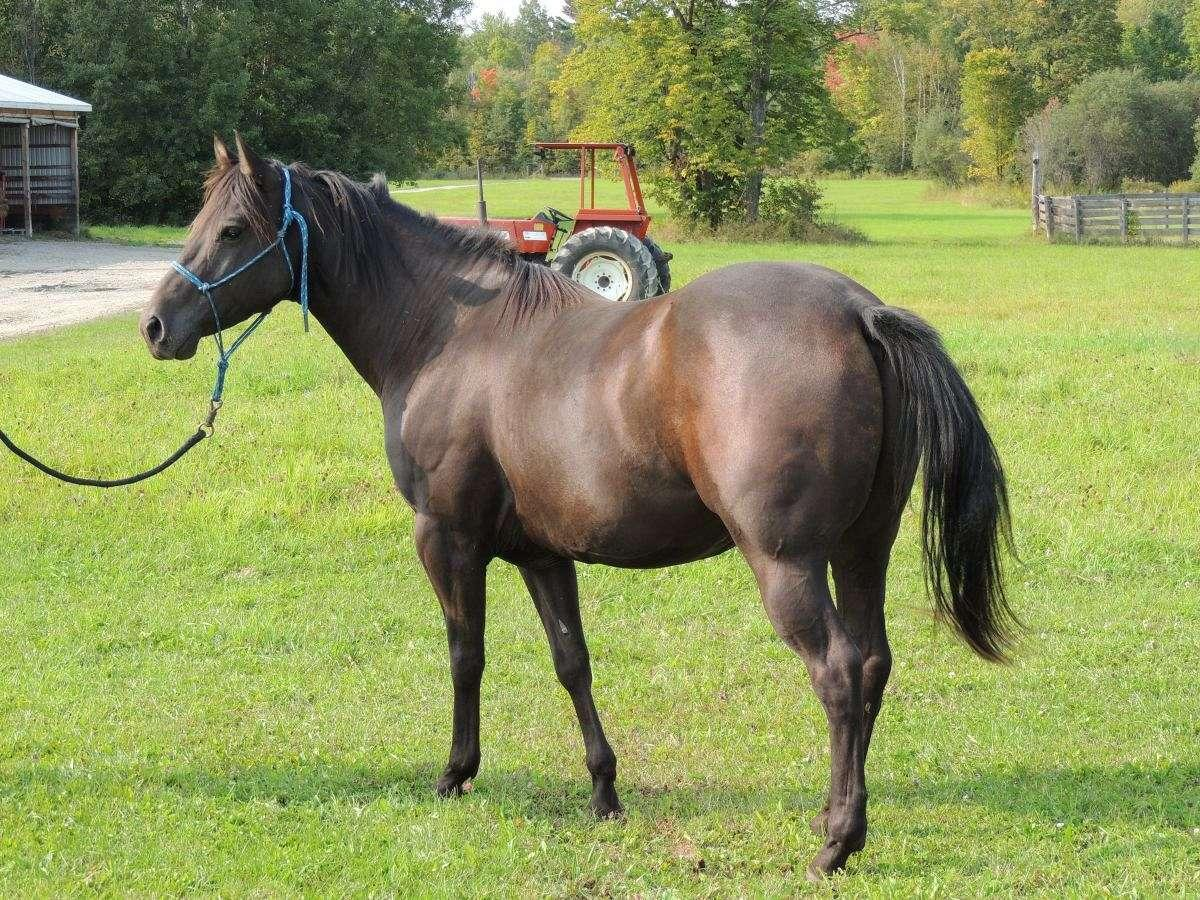horse: (128, 118, 1046, 882)
